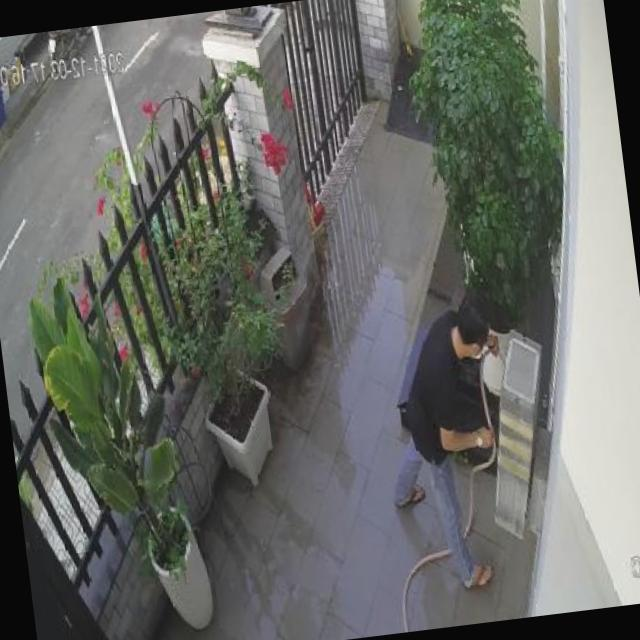Person: (370, 296, 529, 596)
